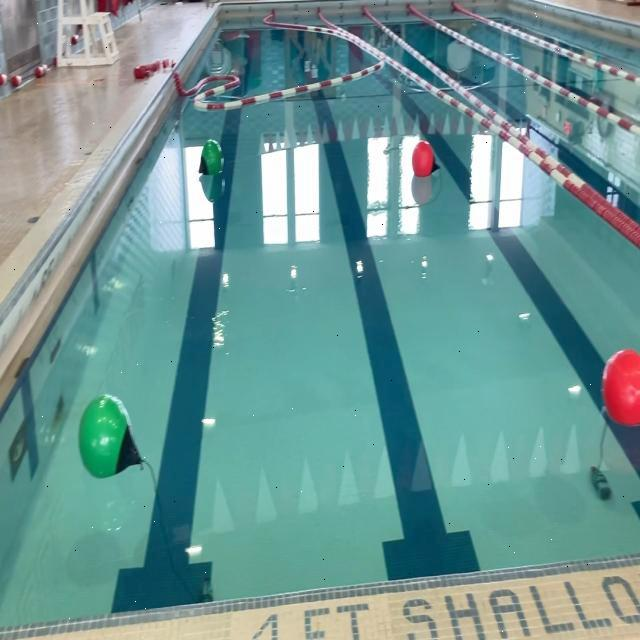buoy: (78, 392, 143, 482), (601, 348, 639, 429), (412, 140, 442, 180), (197, 140, 223, 180)
